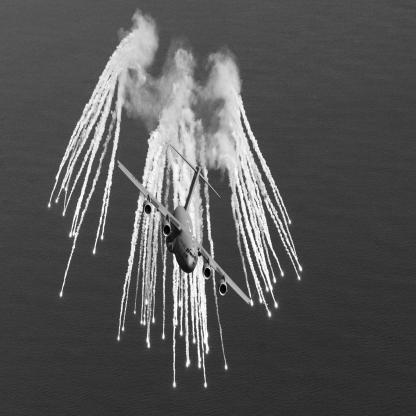C17: (118, 144, 258, 306)
